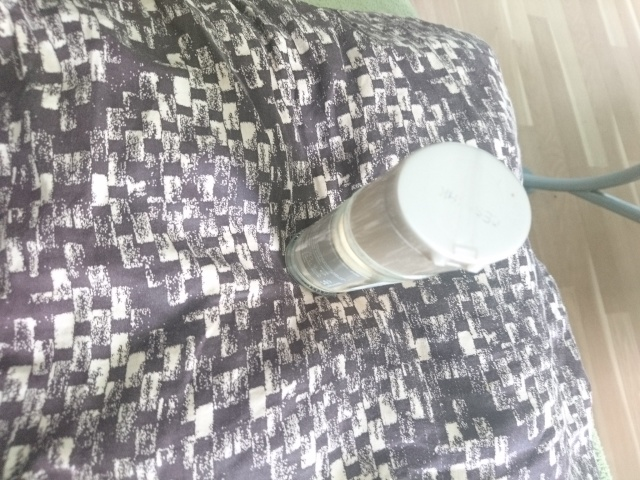Kotanyi Garlic Granules 70g: (280, 140, 535, 299)
